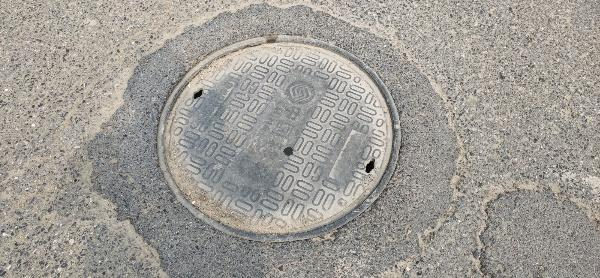wellcover: (159, 36, 404, 242)
